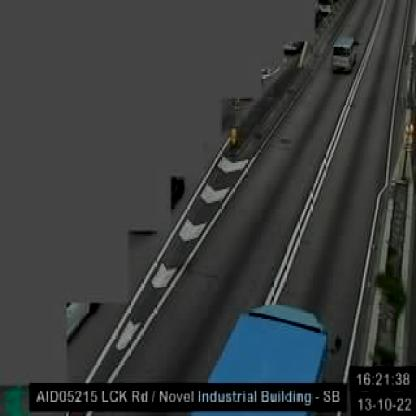Car: (330, 33, 360, 74)
Truck: (175, 301, 333, 416)
